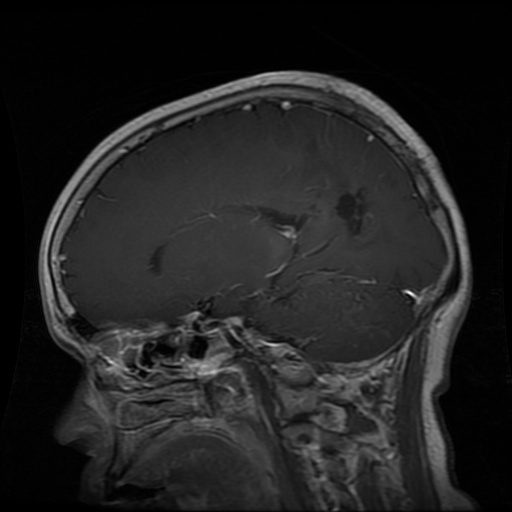glioma: (332, 185, 377, 244)
